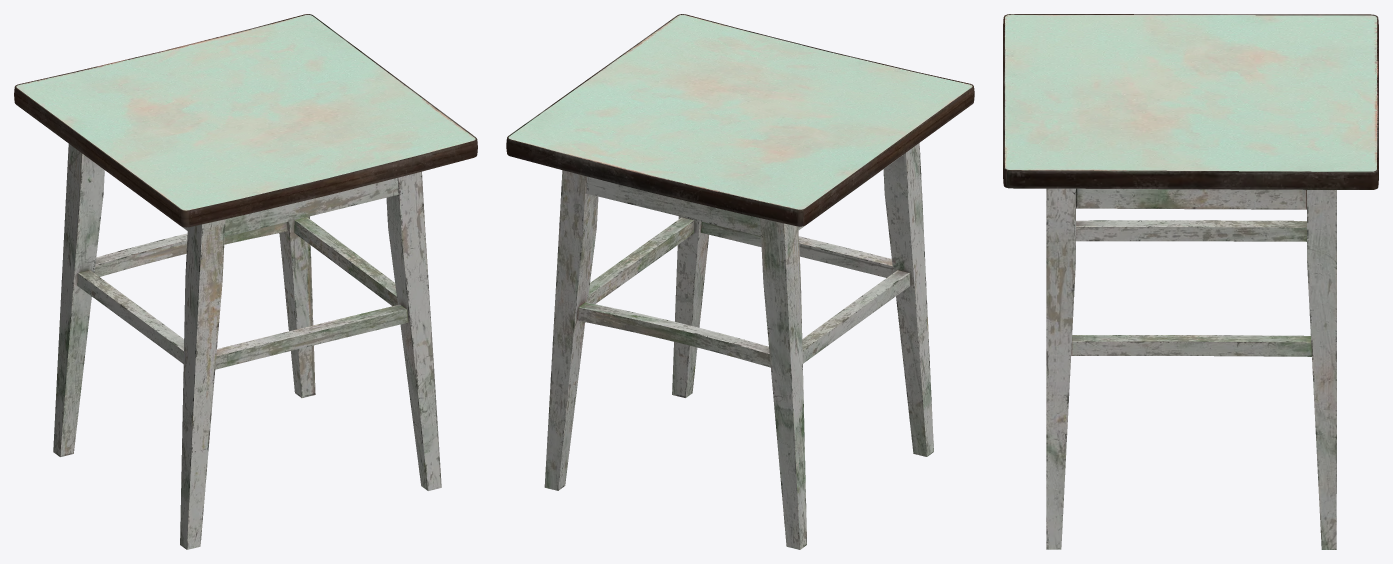
File: stool_2.glb
3 renders of one model, left to right at view 1: azimuth 30°, elevation 25°; view 2: azimuth 150°, elevation 25°; view 3: azimuth 270°, elevation 25°, orthographic. The views are drawn at different scales.
Parts seen in each view (by area): view 1: Cube.014_Stool_0; view 2: Cube.014_Stool_0; view 3: Cube.014_Stool_0.
Part boxes in pixels (x1,y1,x2,y2): Cube.014_Stool_0: (14, 14, 477, 549); Cube.014_Stool_0: (506, 14, 974, 549); Cube.014_Stool_0: (1003, 14, 1378, 549).
Size of the model in its own units: 2.01 by 2.29 by 2.01.
Materials: 1 (1 with a texture image).
